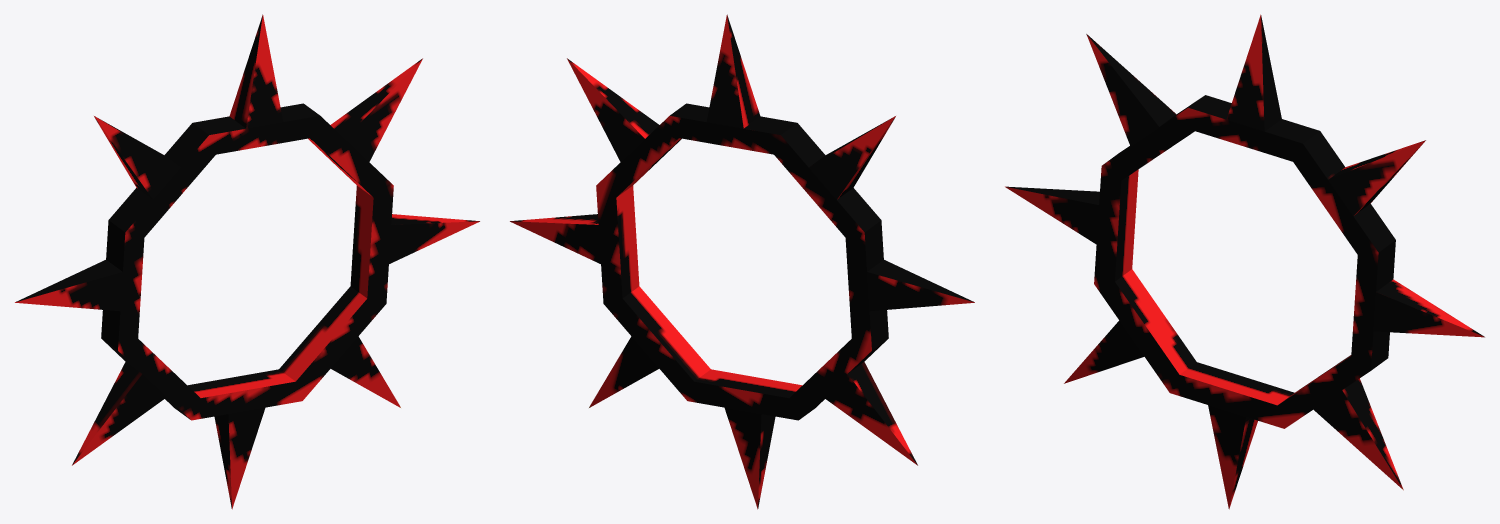
The model's file is ring.fbx.
3 views of the same model, side by side, from view 1: azimuth 30°, elevation 25°; view 2: azimuth 150°, elevation 25°; view 3: azimuth 330°, elevation 25° (orthographic). The views are drawn at different scales.
Visible parts, largest first — view 1: ring; view 2: ring; view 3: ring.
Part boxes in pixels (x1,y1,x2,y2): ring: [15, 14, 479, 509]; ring: [510, 14, 974, 509]; ring: [1005, 14, 1484, 509].
Size of the model in its own units: 164 by 164 by 10.26.
1 material, 1 textured.
